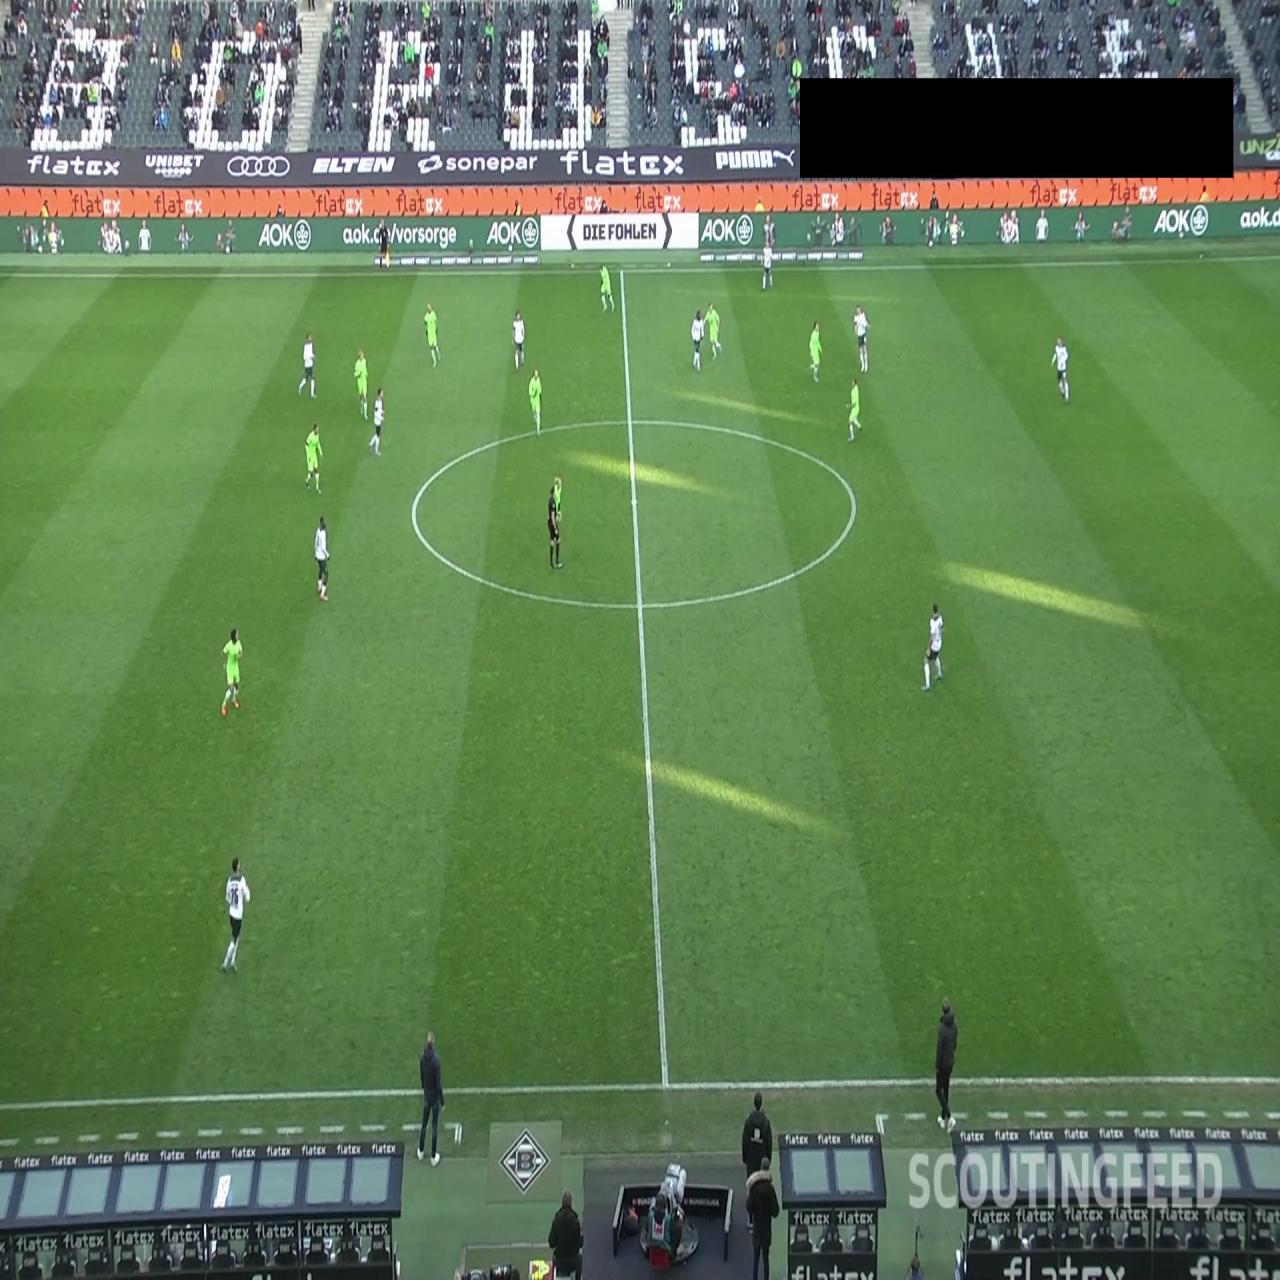Player: (222, 856, 252, 974), (220, 627, 242, 717), (922, 602, 944, 690), (314, 514, 331, 600), (304, 421, 324, 494), (852, 304, 872, 374), (1050, 333, 1070, 402), (298, 332, 317, 398), (424, 302, 442, 369), (703, 300, 722, 360), (370, 386, 386, 456), (846, 376, 863, 441), (354, 348, 369, 419), (528, 367, 542, 438), (808, 320, 822, 383), (691, 308, 705, 371), (600, 264, 616, 313), (512, 310, 525, 370), (762, 233, 775, 290), (552, 473, 564, 530)
Referee: (547, 488, 562, 569), (376, 220, 391, 269)
